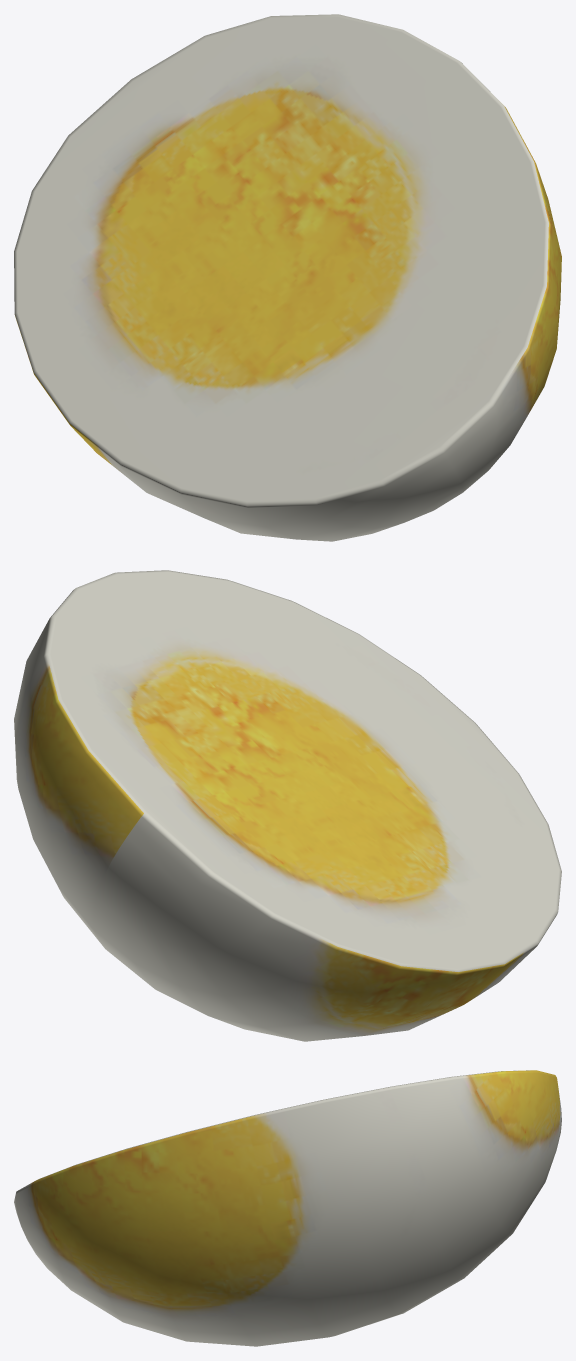
The model's file is BFEggHalf.obj.
3 renders of one model, top to bottom at view 1: azimuth 30°, elevation 25°; view 2: azimuth 150°, elevation 25°; view 3: azimuth 270°, elevation 25°, orthographic. The views are drawn at different scales.
Visible parts, largest first — view 1: jidan; view 2: jidan; view 3: jidan.
Boxes of the visible parts, box(x1,y1,x2,y2) form: jidan: box(14, 14, 561, 541); jidan: box(14, 570, 561, 1041); jidan: box(14, 1070, 561, 1346).
Bounding box in the file's own units: 0.6811 × 0.5668 × 0.8706.
